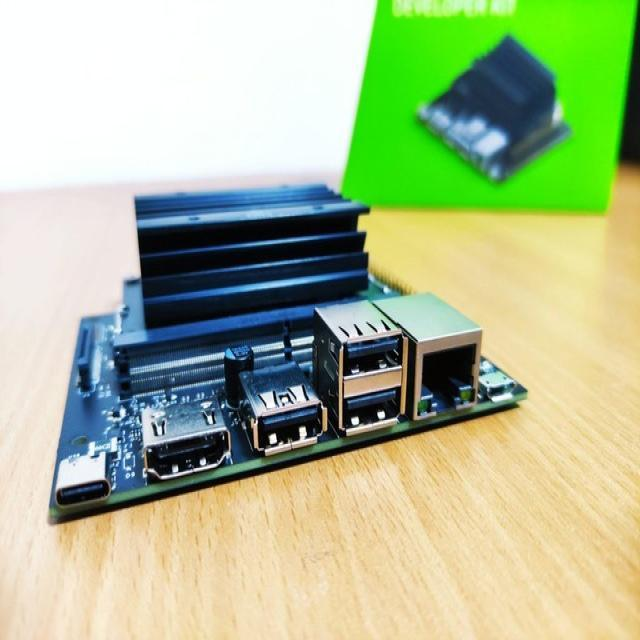Jetson Nano: (52, 184, 528, 515)
